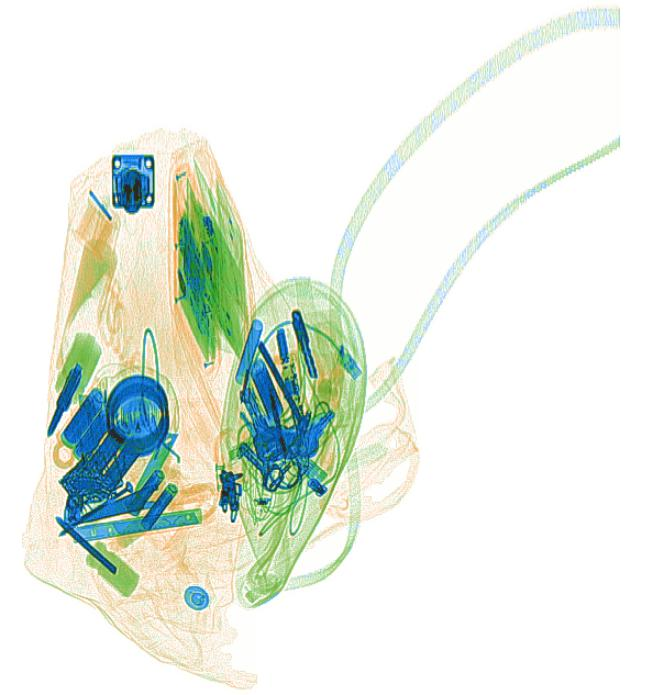battery: (60, 381, 149, 491), (125, 465, 178, 535), (248, 355, 284, 422)
knife: (69, 505, 204, 545), (123, 430, 179, 515)
